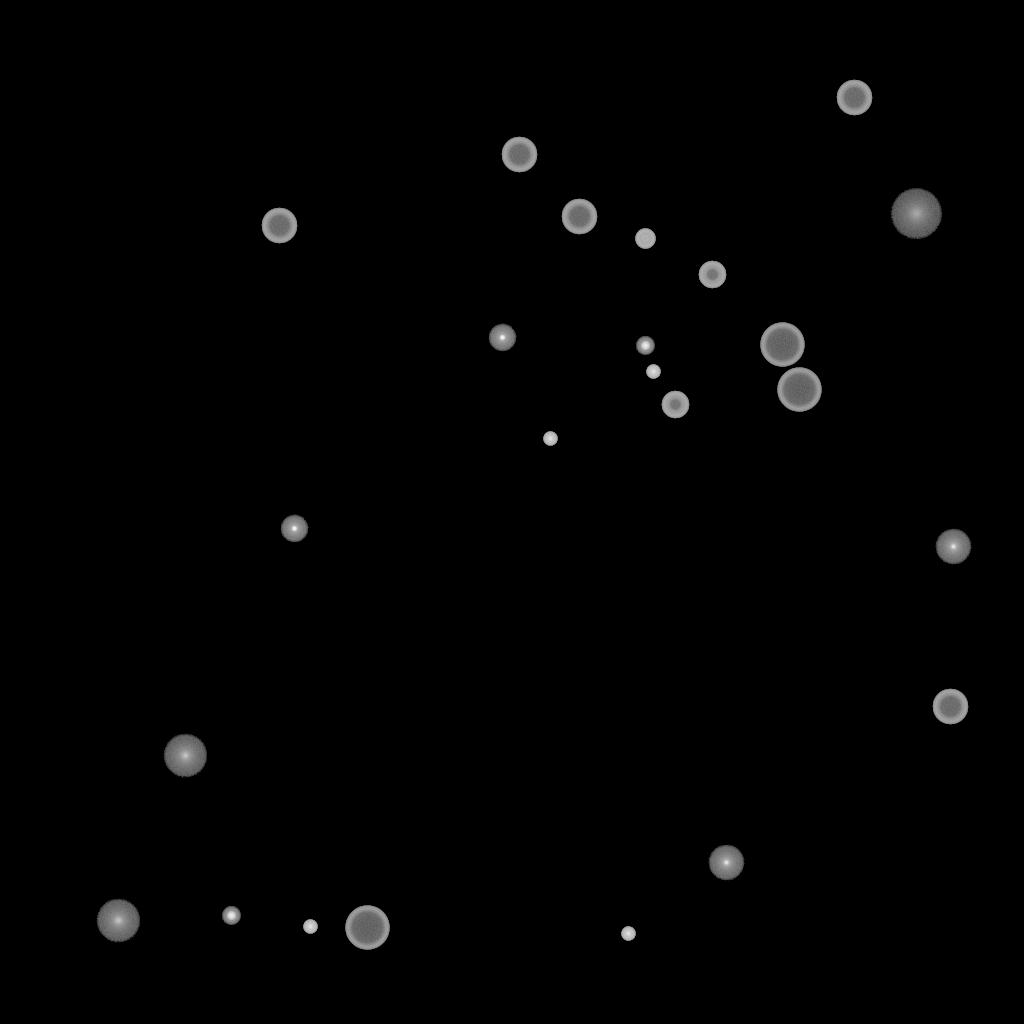depth:-10: (488, 324, 516, 352), (280, 515, 308, 543)
depth:-20: (636, 337, 654, 355), (222, 907, 240, 925)
depth:-30: (646, 365, 660, 379), (543, 432, 557, 446), (621, 927, 635, 941), (303, 920, 317, 934)
depth:-40: (635, 229, 655, 249)
depth:-50: (698, 261, 726, 289), (661, 391, 689, 419)
depth:-60: (836, 80, 872, 116), (932, 689, 968, 725), (561, 199, 597, 235), (501, 137, 537, 173), (261, 208, 297, 244)
depth:-70: (777, 368, 821, 412), (345, 906, 389, 950), (760, 323, 804, 367)
depth:0: (935, 529, 971, 565), (708, 845, 744, 881)
depth:10: (163, 734, 207, 778), (96, 899, 140, 943)
depth:20: (890, 189, 942, 239)
